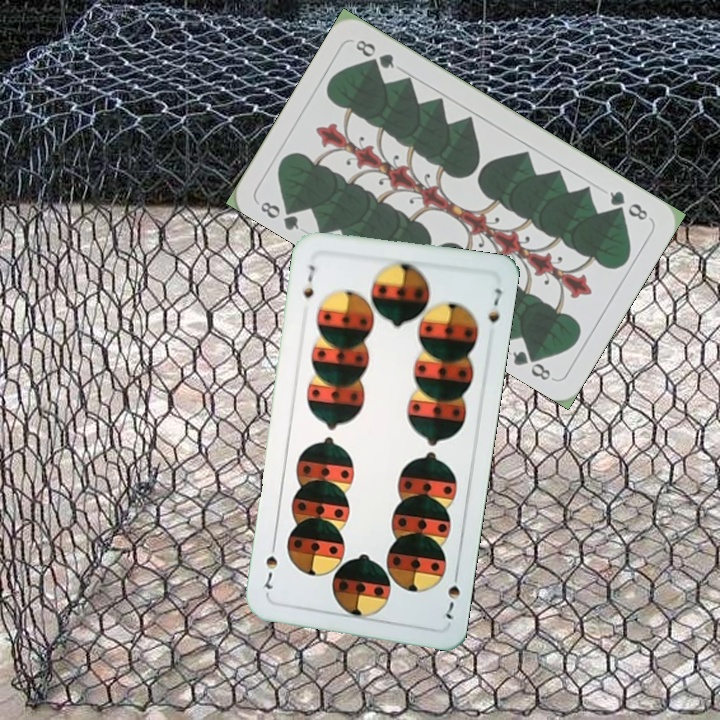G8: (256, 197, 303, 233), (605, 187, 651, 223)
S7: (441, 566, 463, 622), (299, 260, 318, 301)
